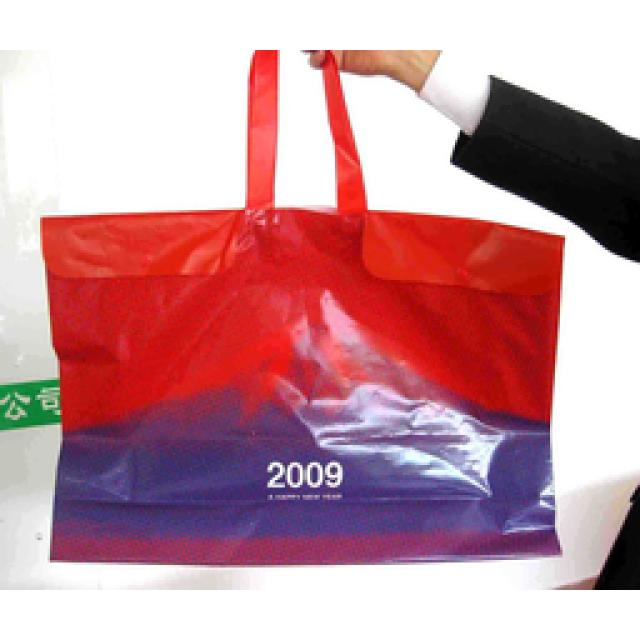plastic: (40, 50, 562, 562)
